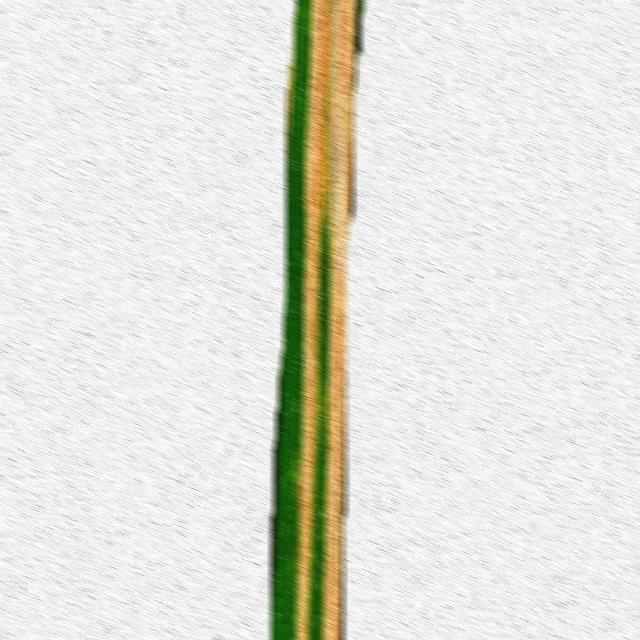BLB: (295, 0, 358, 640)
